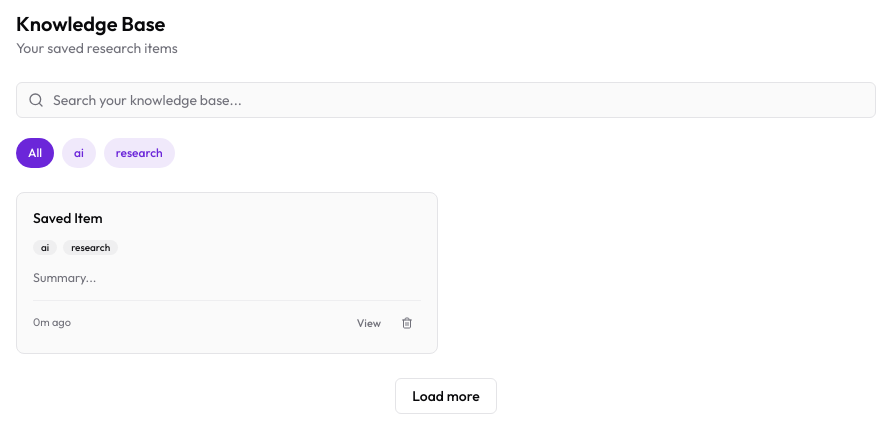
it: KnowledgeBase page › Load more fetches next page
Expected: the heading "Saved Item" is shown, [33,209,102,227]
Click the button "Load more": x=446, y=396 [395,378,497,414]
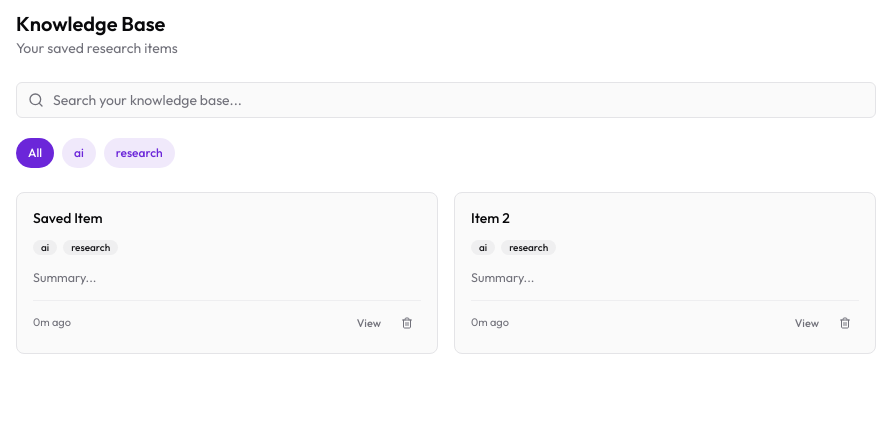
Expected: the heading "Item 2" is shown, [471,209,510,227]
